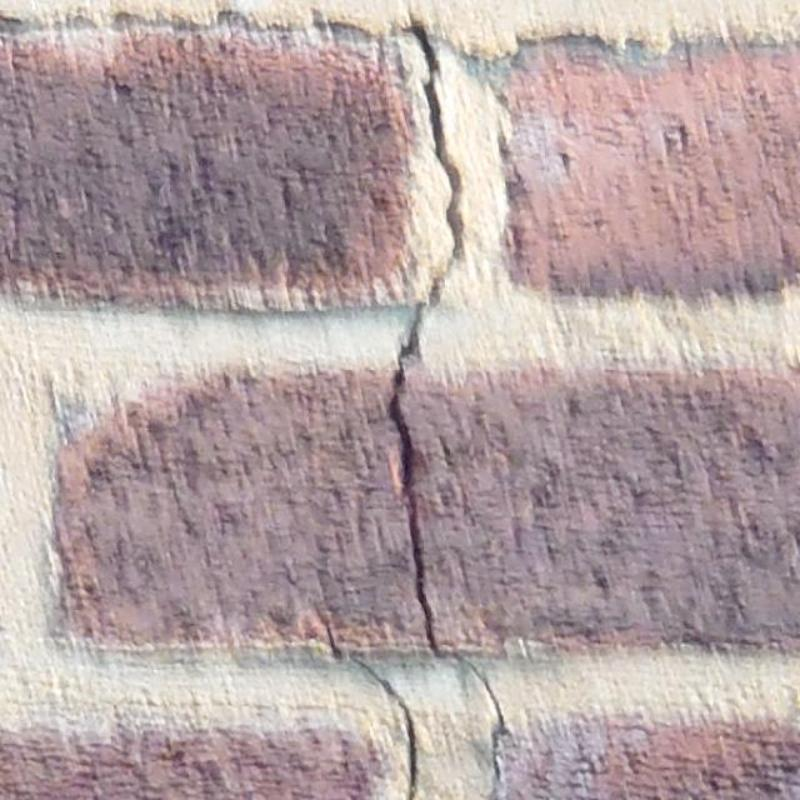pothole: (389, 279, 505, 734), (398, 26, 465, 259), (354, 659, 418, 800)
